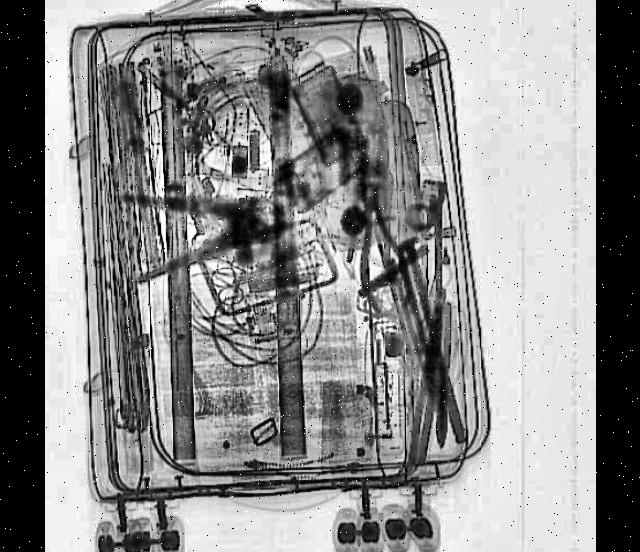Pliers: (116, 170, 284, 282), (341, 164, 414, 312), (408, 284, 464, 466)
